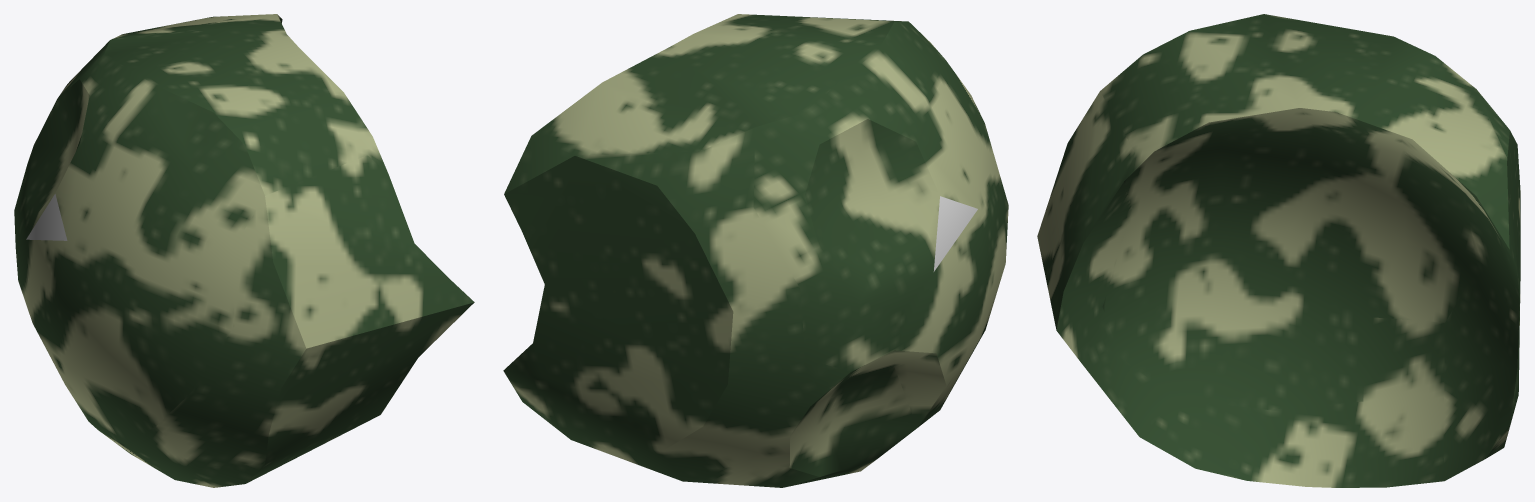
File: link_body_16.obj
3 renders of one model, left to right at view 1: azimuth 30°, elevation 25°; view 2: azimuth 150°, elevation 25°; view 3: azimuth 270°, elevation 25°, orthographic. The views are drawn at different scales.
Visible parts, largest first — view 1: link_body_16; view 2: link_body_16; view 3: link_body_16.
Part boxes in pixels (x1,y1,x2,y2): link_body_16: (14, 14, 474, 487); link_body_16: (503, 14, 1008, 487); link_body_16: (1037, 14, 1520, 487).
Size of the model in its own units: 9.72 by 10.65 by 11.58.
